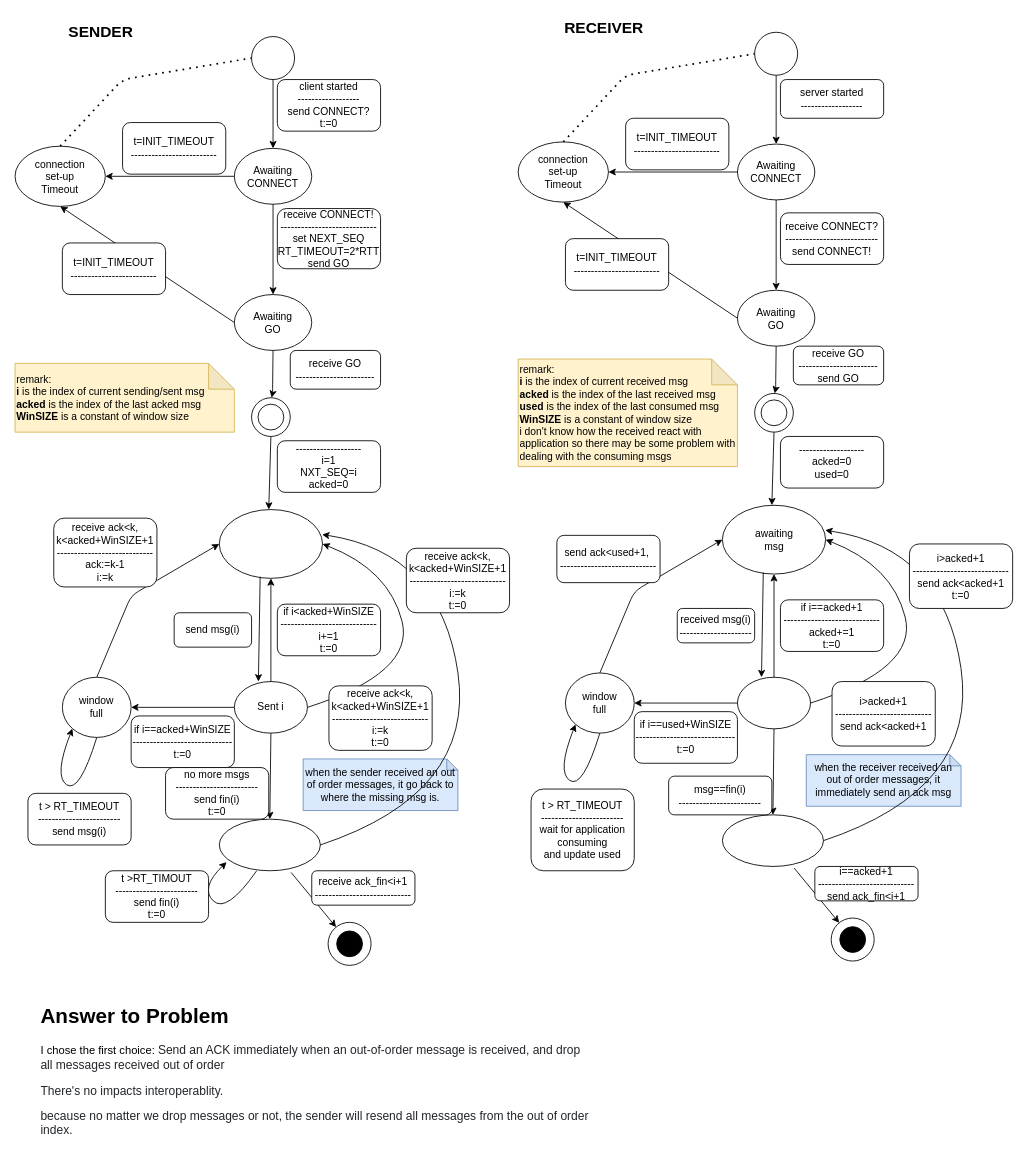
This 1028x1160 diagram has some shape labels left out. The centre of each missing label's shape, as x and y in pixels:
awaiting ack_fin<i+1: point (269, 844)
awaiting all msg received: point (772, 840)
Ready NXT_SEQ=i: point (270, 543)
received msg(i): point (774, 702)
